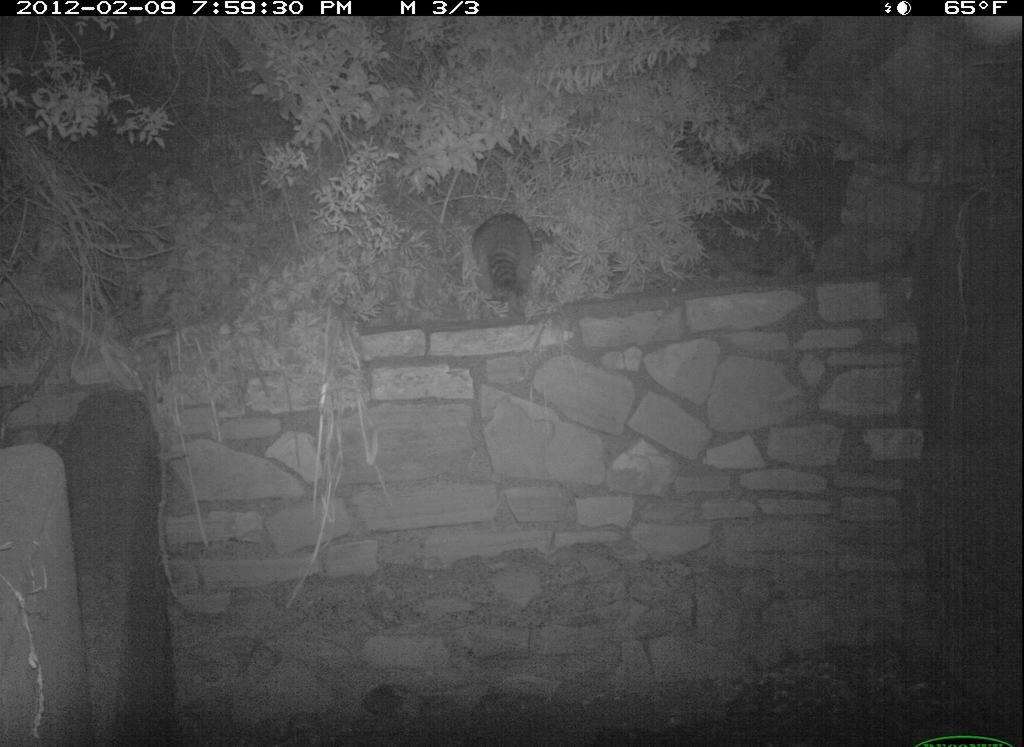raccoon: (456, 204, 550, 314)
